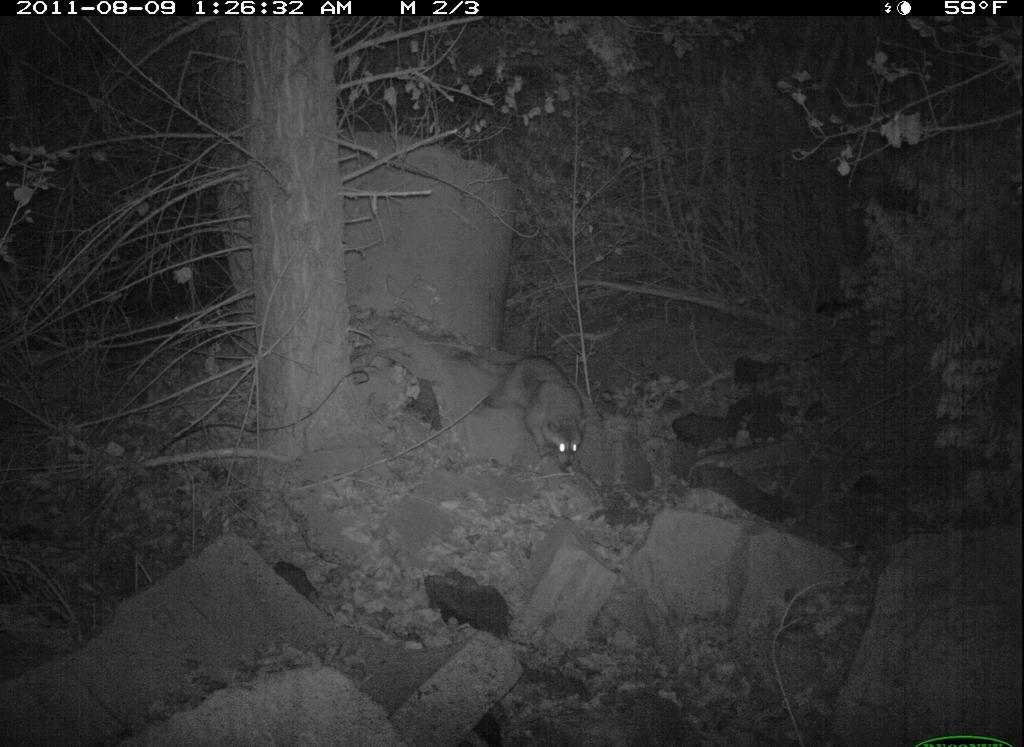raccoon: (474, 351, 609, 475)
